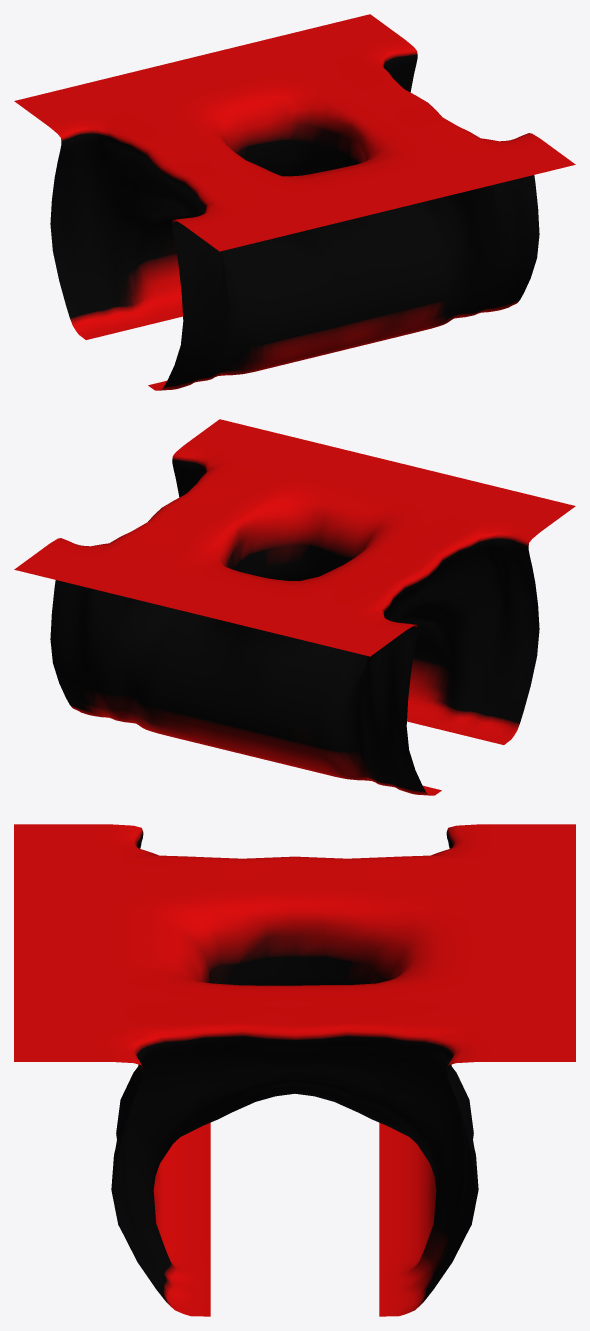
File: CrossingCliff03B 2M Foreground.fbx
3 views of the same model, one above another, from view 1: azimuth 30°, elevation 25°; view 2: azimuth 150°, elevation 25°; view 3: azimuth 270°, elevation 25° (orthographic). The views are drawn at different scales.
Visible parts, largest first — view 1: CrossingCliff03B 2M Foreground; view 2: CrossingCliff03B 2M Foreground; view 3: CrossingCliff03B 2M Foreground.
Boxes of the visible parts, left/top/right/bottom form: CrossingCliff03B 2M Foreground: left=14, top=14, right=575, bottom=390; CrossingCliff03B 2M Foreground: left=14, top=419, right=575, bottom=795; CrossingCliff03B 2M Foreground: left=14, top=824, right=575, bottom=1316.
Bounding box in the file's own units: 4 × 2.01 × 4.
